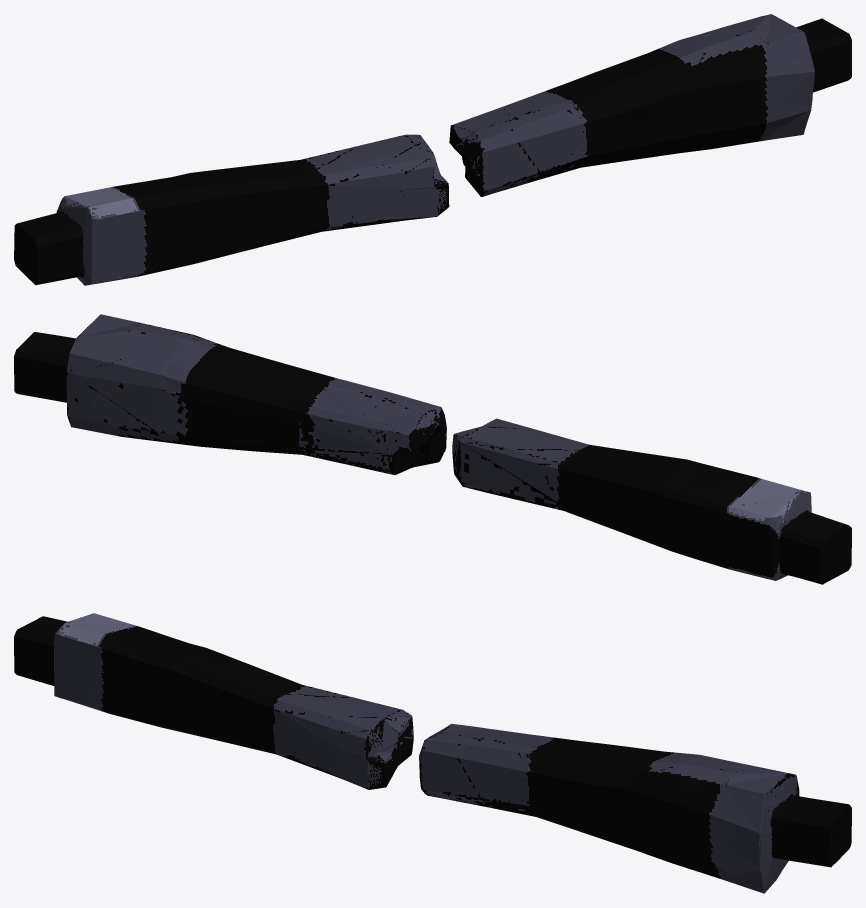
The picture shows the model from 3 angles, top to bottom: view 1: azimuth 30°, elevation 25°; view 2: azimuth 150°, elevation 25°; view 3: azimuth 330°, elevation 25°; orthographic projection.
Parts seen in each view (by area): view 1: OBJ09d; view 2: OBJ09d; view 3: OBJ09d.
Part boxes in pixels (x1,y1,x2,y2): OBJ09d: [14, 14, 851, 285]; OBJ09d: [14, 314, 851, 584]; OBJ09d: [14, 613, 851, 893].
Size of the model in its own units: 0.3029 by 0.0371 by 0.0373.
1 material, 1 textured.
